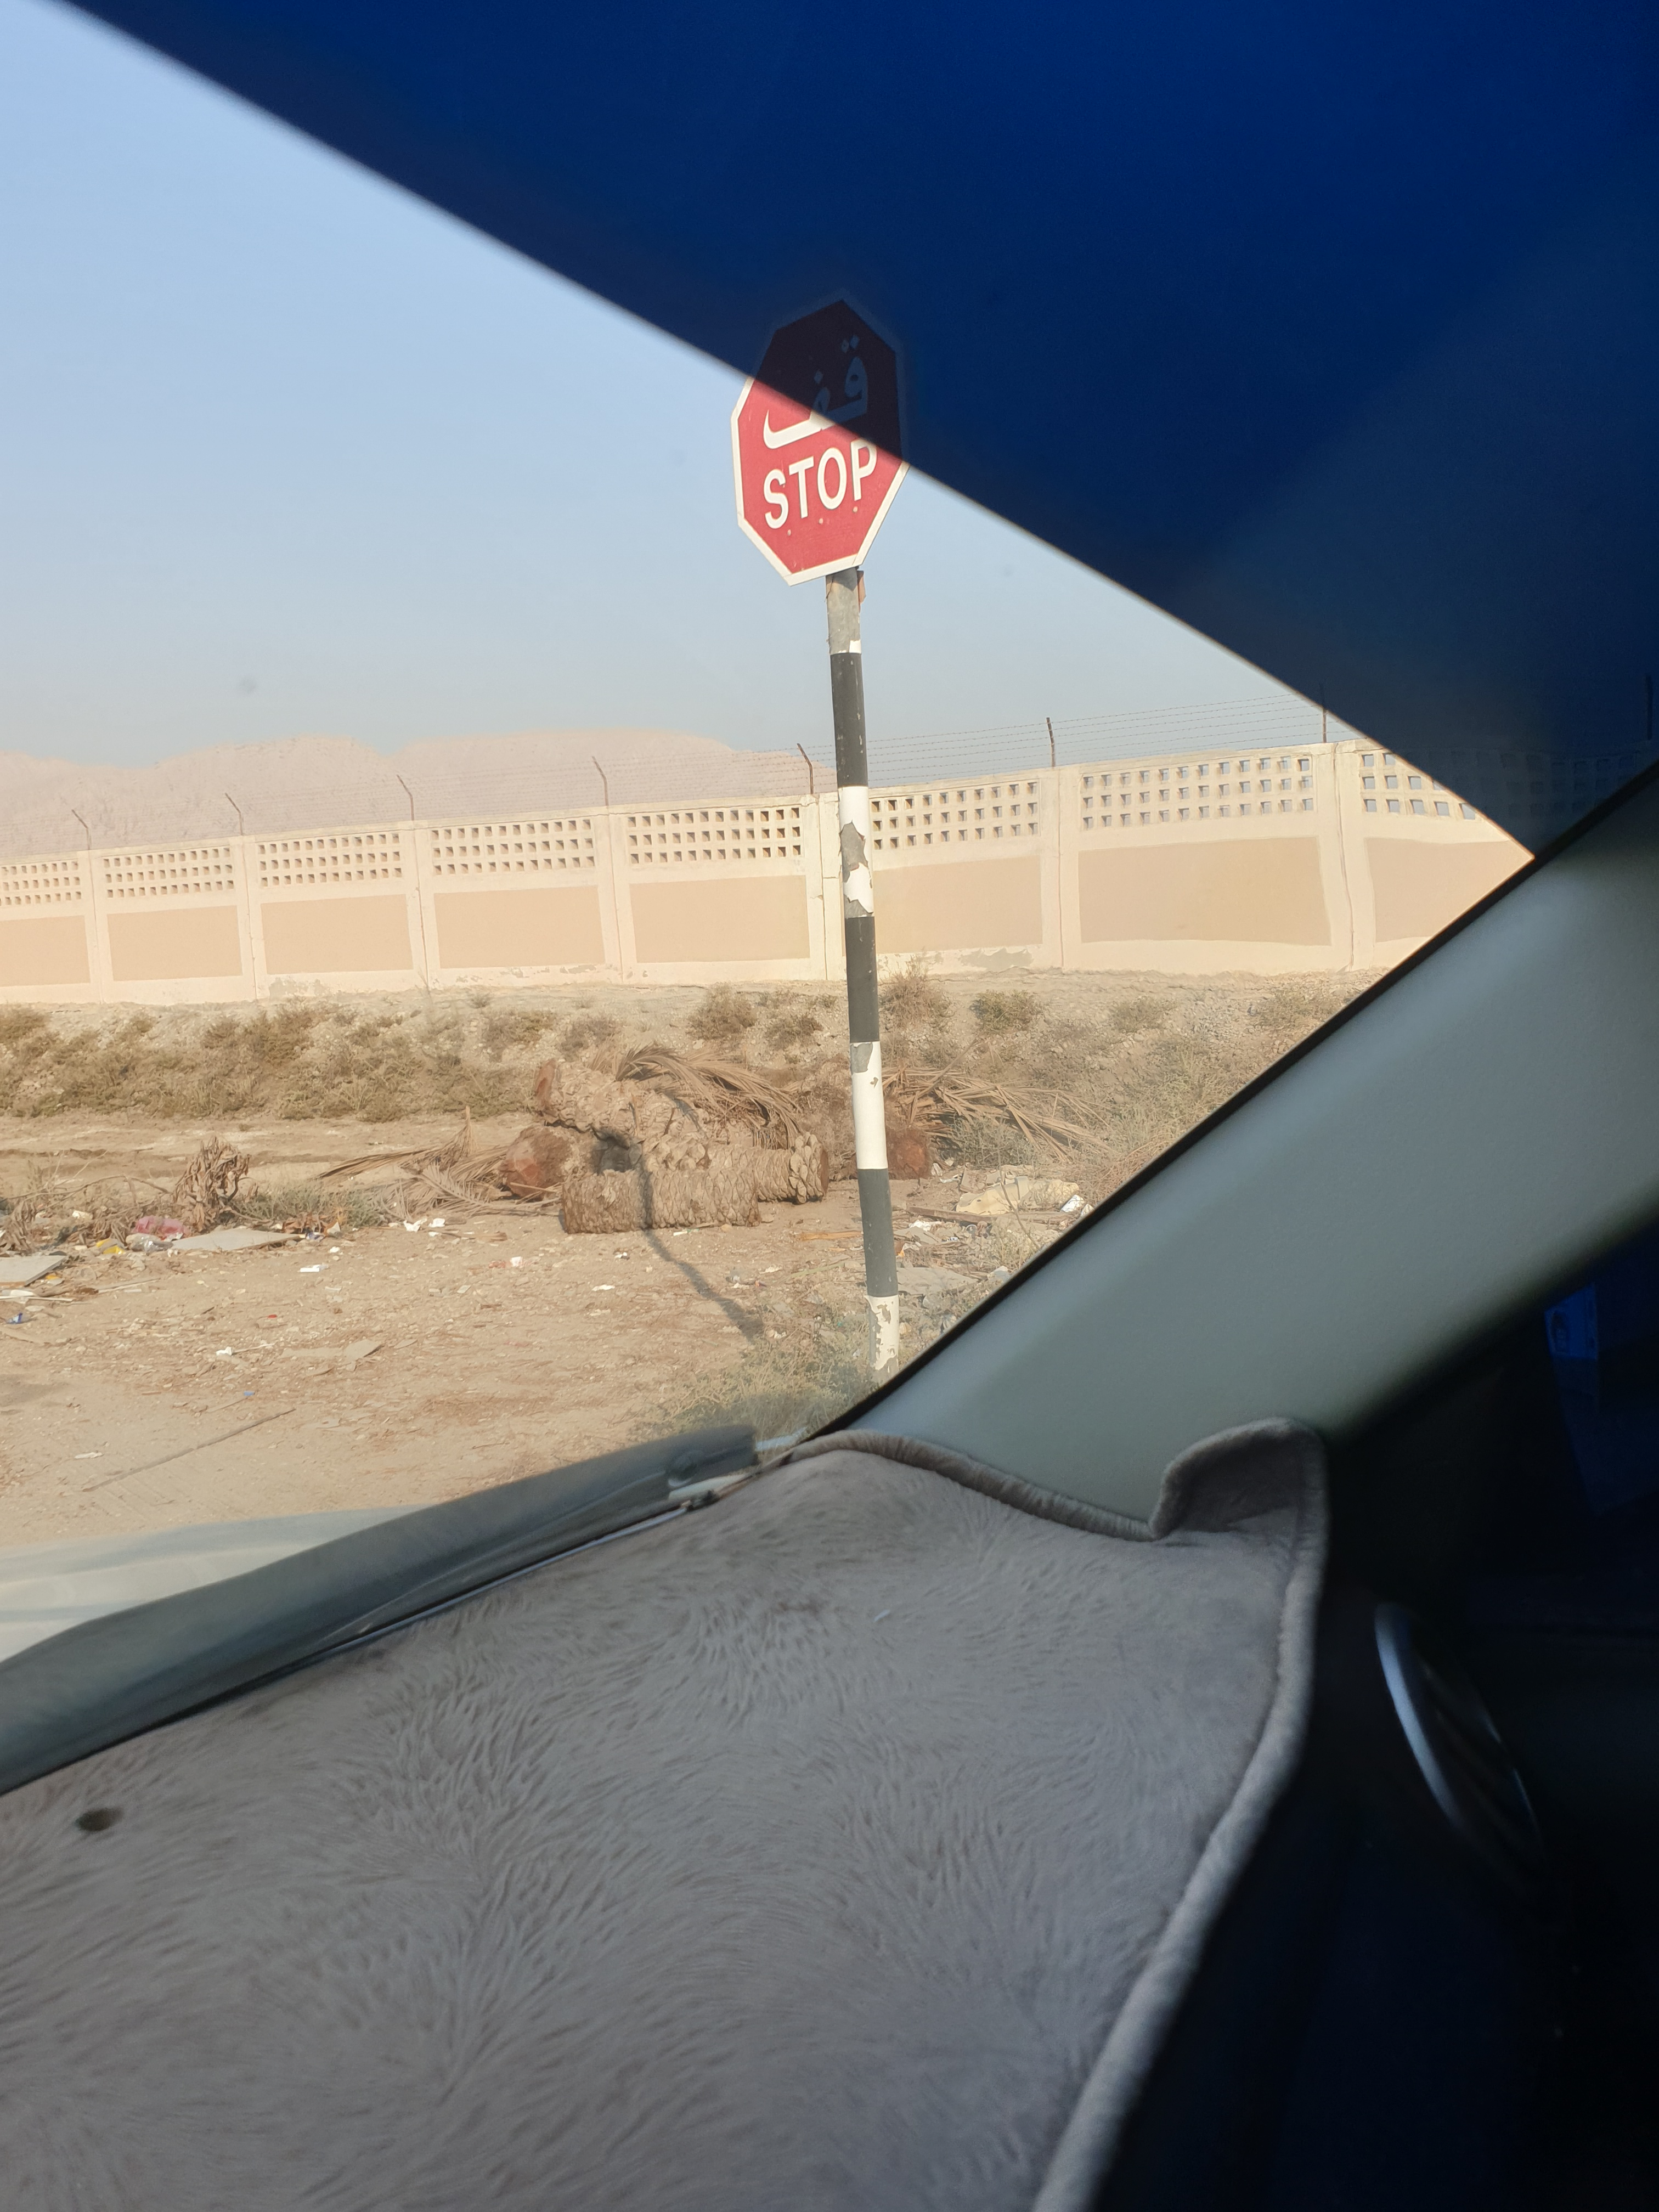fallen_trees: (345, 1123, 556, 1252), (598, 1022, 805, 1143), (507, 1057, 728, 1167), (145, 1134, 335, 1256), (566, 1169, 782, 1258), (392, 1090, 511, 1174)
